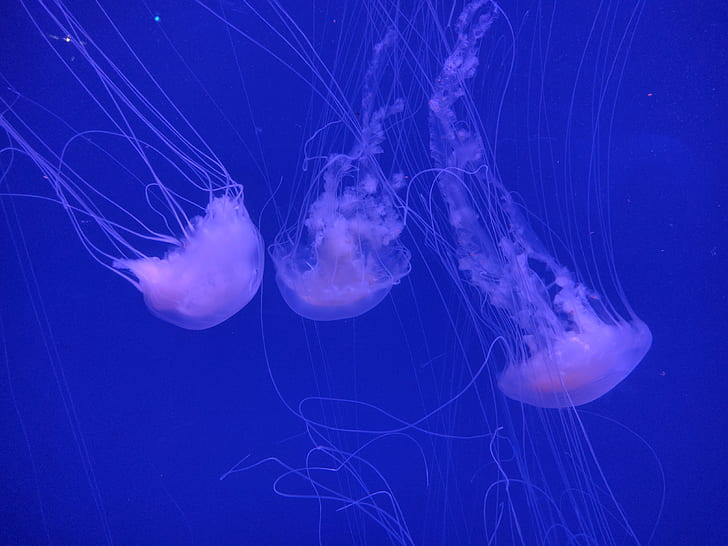jellyfish: (417, 75, 692, 417), (105, 69, 263, 338), (275, 79, 429, 316)
